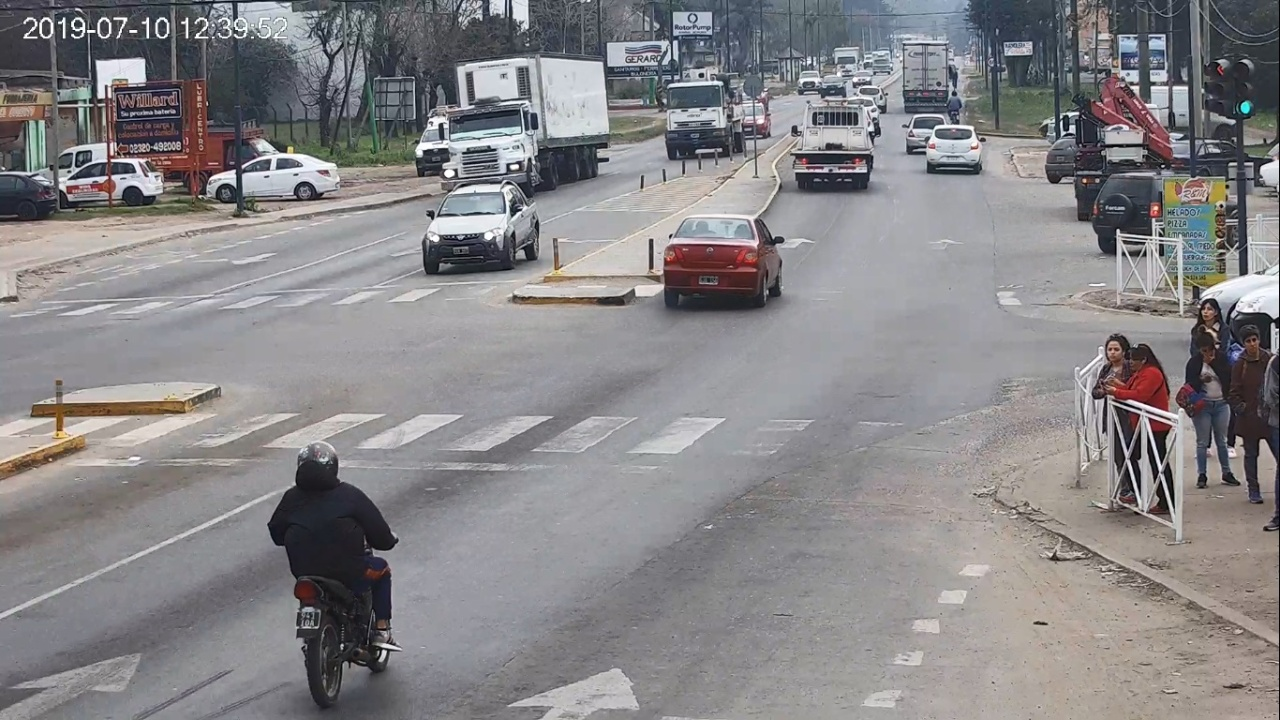car: (663, 215, 785, 306)
front car: (422, 183, 541, 275)
motorcycle: (267, 483, 398, 706)
traffic light: (1232, 57, 1255, 120)
